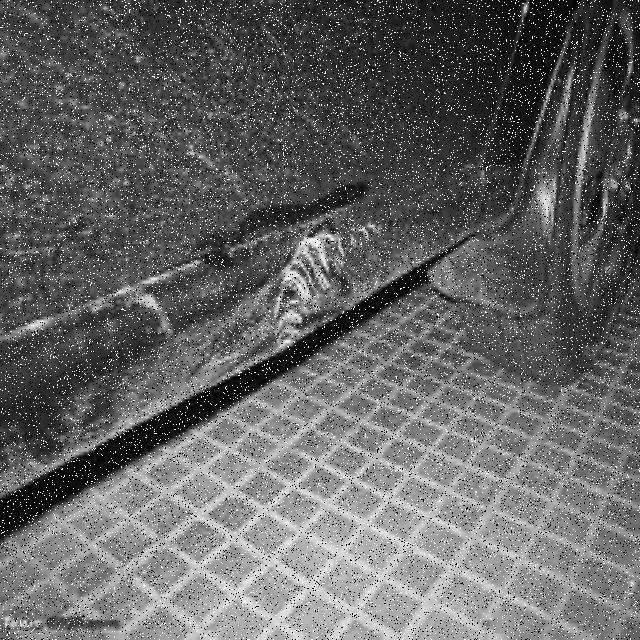Runningboard-Damage: (1, 201, 520, 353)
